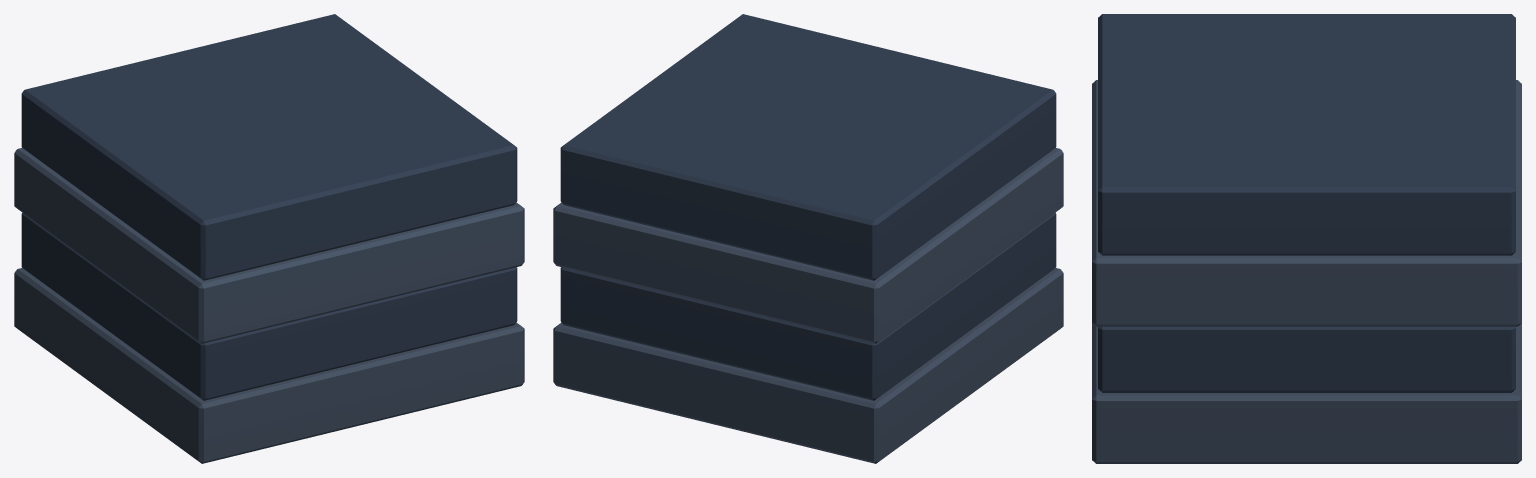
File: column_stone.glb
The picture shows the model from 3 angles, left to right: view 1: azimuth 30°, elevation 25°; view 2: azimuth 150°, elevation 25°; view 3: azimuth 270°, elevation 25°; orthographic projection. The views are drawn at different scales.
Visible parts, largest first — view 1: column_stone; view 2: column_stone; view 3: column_stone.
Boxes of the visible parts, x1=… form: column_stone: x1=14, y1=14, x2=524, y2=463; column_stone: x1=553, y1=14, x2=1063, y2=463; column_stone: x1=1092, y1=14, x2=1521, y2=463.
Bounding box in the file's own units: 1.42 × 1 × 1.42.
